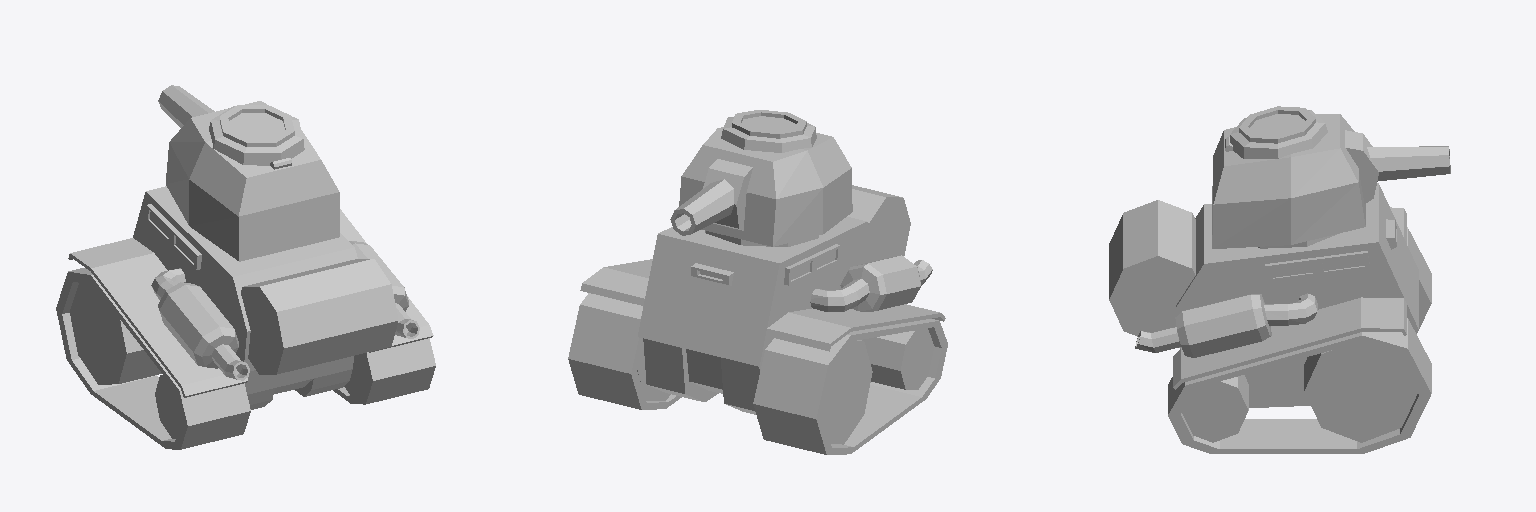
Rendered from tank.obj.
3 renders of one model, left to right at view 1: azimuth 30°, elevation 25°; view 2: azimuth 150°, elevation 25°; view 3: azimuth 270°, elevation 25°, orthographic.
Visible parts, largest first — view 1: Top_Cube.004, Body_GasTank_Cylinder, Tread_Left_Cube.006, Body_Cube.001, Body_Fender_Left_Cube.005, Body_Exhaust_Left_Cylinder.011, Treads_LargeGear_Left_Cylinder.007, Top_LatchDoor_Cylinder.008, Tread_Right_Cube.007, Body_Lower_Cylinder.003, Body_Exhaust_Right_Cylinder.010, GunBarrel_Cylinder.002 (+4 smaller); view 2: Body_Cube.001, Tread_Left_Cube.006, Top_Cube.004, Tread_Right_Cube.007, Body_Lower_Cylinder.003, Body_Exhaust_Left_Cylinder.011, Body_Fender_Left_Cube.005, Treads_LargeGear_Left_Cylinder.007, Treads_SmallGear_Left_Cylinder.006, Top_LatchDoor_Cylinder.008, Body_GasTank_Cylinder, GunBarrel_Cylinder.002 (+4 smaller); view 3: Top_Cube.004, Body_Cube.001, Tread_Right_Cube.007, Body_GasTank_Cylinder, Treads_LargeGear_Right_Cylinder.004, Body_Fender_Right_Cube.002, Body_Exhaust_Right_Cylinder.010, Top_LatchDoor_Cylinder.008, Treads_SmallGear_Right_Cylinder.005, GunBarrel_Cylinder.002, Body_Lower_Cylinder.003, Body_Window_Right_Cube.008 (+2 smaller).
Boxes of the visible parts, <box> form: Top_Cube.004: <box>166,101,339,261</box>; Body_GasTank_Cylinder: <box>241,259,398,374</box>; Tread_Left_Cube.006: <box>56,268,250,449</box>; Body_Cube.001: <box>133,186,357,370</box>; Body_Fender_Left_Cube.005: <box>68,238,247,397</box>; Body_Exhaust_Left_Cylinder.011: <box>151,268,249,380</box>; Treads_LargeGear_Left_Cylinder.007: <box>70,283,161,384</box>; Top_LatchDoor_Cylinder.008: <box>209,105,304,165</box>; Tread_Right_Cube.007: <box>333,338,435,404</box>; Body_Lower_Cylinder.003: <box>245,356,353,409</box>; Body_Exhaust_Right_Cylinder.010: <box>349,241,419,338</box>; GunBarrel_Cylinder.002: <box>158,85,214,127</box>; Body_Cube.001: <box>638,217,880,366</box>; Tread_Left_Cube.006: <box>753,319,947,454</box>; Top_Cube.004: <box>679,127,852,246</box>; Tread_Right_Cube.007: <box>568,293,681,409</box>; Body_Lower_Cylinder.003: <box>643,338,760,414</box>; Body_Exhaust_Left_Cylinder.011: <box>810,255,932,311</box>; Body_Fender_Left_Cube.005: <box>766,304,945,351</box>; Treads_LargeGear_Left_Cylinder.007: <box>823,340,872,444</box>; Treads_SmallGear_Left_Cylinder.006: <box>862,328,933,389</box>; Top_LatchDoor_Cylinder.008: <box>721,110,816,152</box>; Body_GasTank_Cylinder: <box>847,185,910,259</box>; GunBarrel_Cylinder.002: <box>670,179,733,235</box>; Top_Cube.004: <box>1212,114,1365,248</box>; Body_Cube.001: <box>1176,183,1418,330</box>; Tread_Right_Cube.007: <box>1168,318,1431,453</box>; Body_GasTank_Cylinder: <box>1109,200,1195,336</box>; Treads_LargeGear_Right_Cylinder.004: <box>1304,343,1417,442</box>; Body_Fender_Right_Cube.002: <box>1173,297,1406,389</box>; Body_Exhaust_Right_Cylinder.010: <box>1135,293,1317,357</box>; Top_LatchDoor_Cylinder.008: <box>1230,106,1327,158</box>; Treads_SmallGear_Right_Cylinder.005: <box>1182,375,1248,442</box>; GunBarrel_Cylinder.002: <box>1367,146,1450,181</box>; Body_Lower_Cylinder.003: <box>1245,357,1310,407</box>; Body_Window_Right_Cube.008: <box>1265,251,1369,281</box>.
Size of the model in its own units: 5.88 by 6.24 by 7.